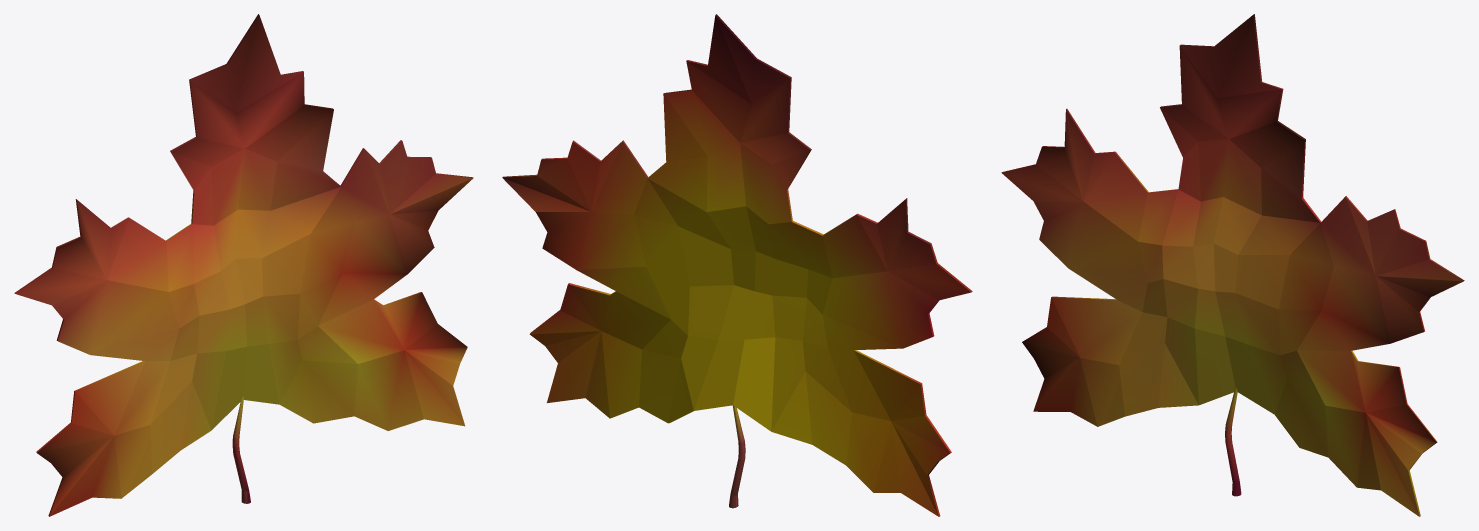
Rendered from MS_Leaf_Maple.fbx.
3 renders of one model, left to right at view 1: azimuth 30°, elevation 25°; view 2: azimuth 150°, elevation 25°; view 3: azimuth 330°, elevation 25°, orthographic.
Parts seen in each view (by area): view 1: MS_Leaf_Maple; view 2: MS_Leaf_Maple; view 3: MS_Leaf_Maple.
Part boxes in pixels (box(x1,y1,x2,y2)): MS_Leaf_Maple: box(14, 14, 473, 516); MS_Leaf_Maple: box(502, 14, 972, 516); MS_Leaf_Maple: box(1001, 14, 1464, 516).
Size of the model in its own units: 5.84 by 5.84 by 0.4719.
